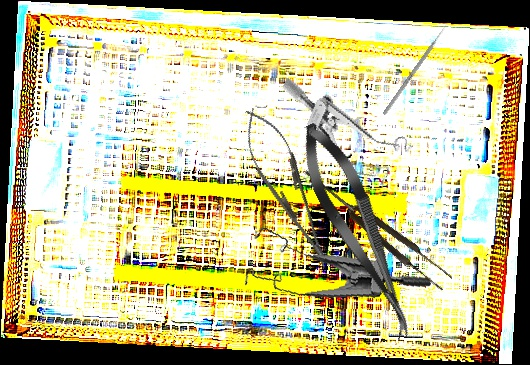Micro Scissor: (287, 114, 430, 347)
Needle Holder: (230, 100, 345, 277)
Pusher: (382, 20, 451, 116)
Speculum: (235, 199, 433, 321), (262, 77, 419, 191)
Tissue Forceps: (298, 161, 455, 294)
